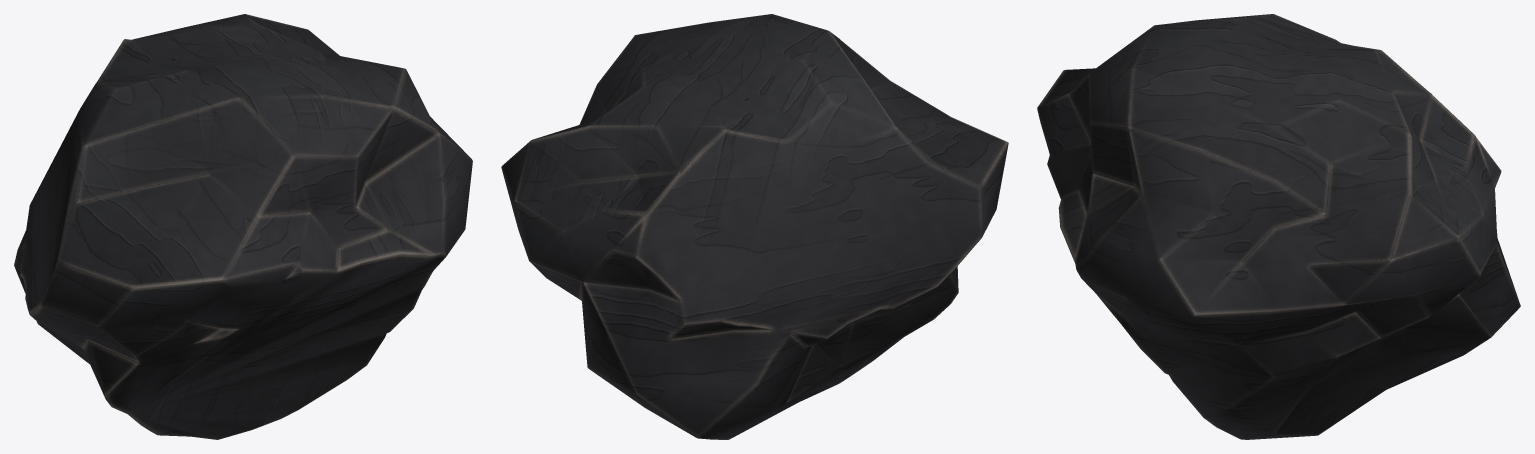
Rendered from StoneChunk.fbx.
3 views of the same model, side by side, from view 1: azimuth 30°, elevation 25°; view 2: azimuth 150°, elevation 25°; view 3: azimuth 270°, elevation 25° (orthographic). The views are drawn at different scales.
Parts seen in each view (by area): view 1: StoneChunk; view 2: StoneChunk; view 3: StoneChunk.
Boxes of the visible parts, x1,y1,x2,y2 form: StoneChunk: (14,14,472,439); StoneChunk: (501,14,1008,439); StoneChunk: (1037,14,1520,439).
Bounding box in the file's own units: 181 × 158 × 178.
